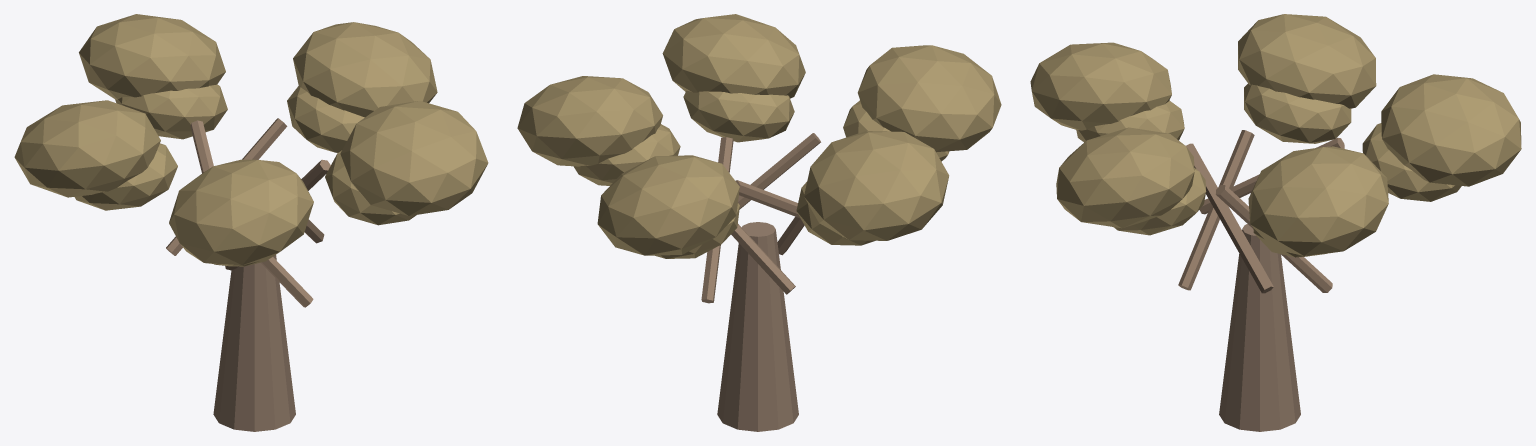
Rendered from tree.glb.
The picture shows the model from 3 angles, left to right: view 1: azimuth 30°, elevation 25°; view 2: azimuth 150°, elevation 25°; view 3: azimuth 270°, elevation 25°; orthographic projection.
Parts seen in each view (by area): view 1: mulberry; view 2: mulberry; view 3: mulberry.
Boxes of the visible parts, x1,y1,x2,y2 form: mulberry: (14, 14, 488, 431); mulberry: (517, 14, 1001, 431); mulberry: (1030, 14, 1521, 431).
Size of the model in its own units: 3.45 by 2.6 by 3.59.
